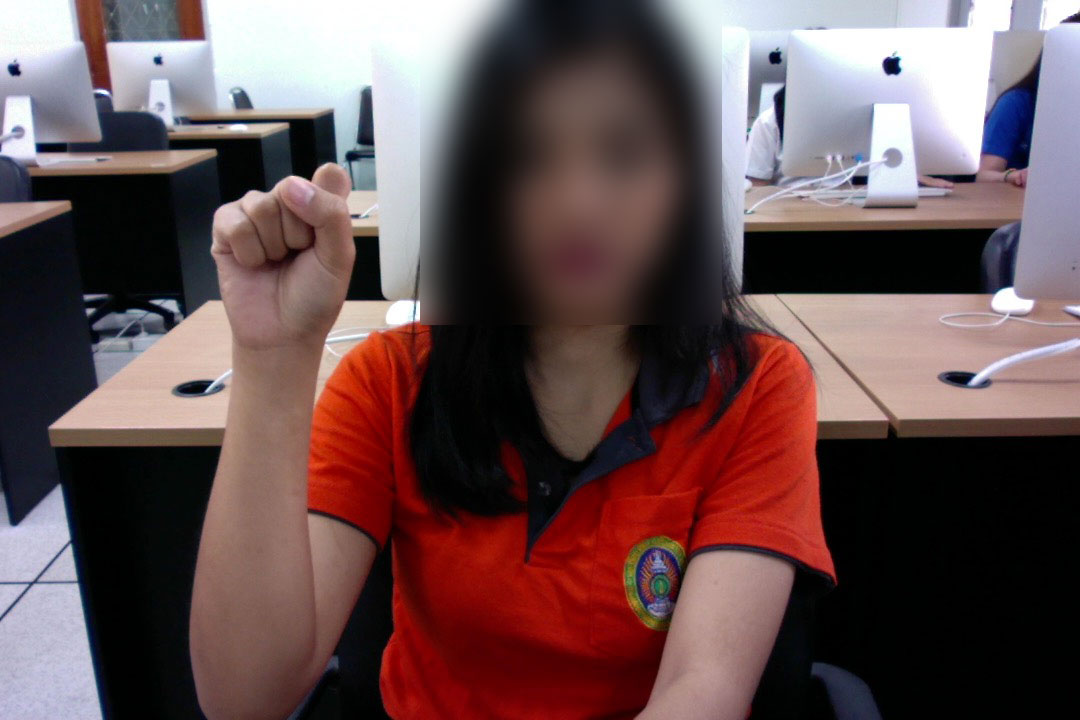sor: (204, 155, 363, 364)
